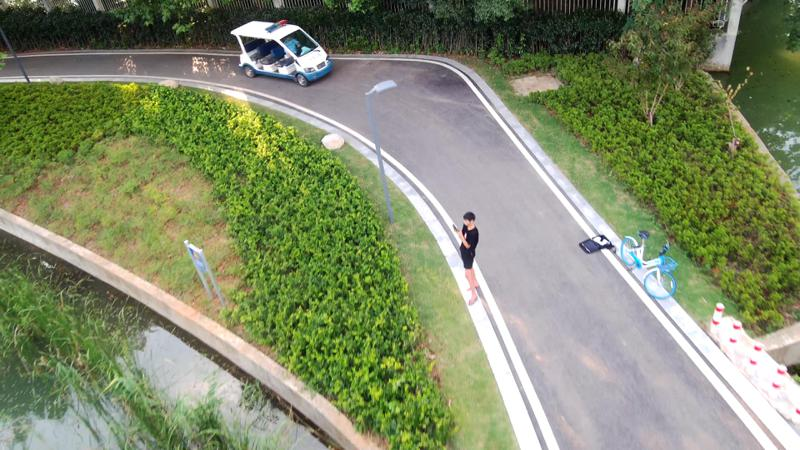passerby: (453, 210, 481, 307)
